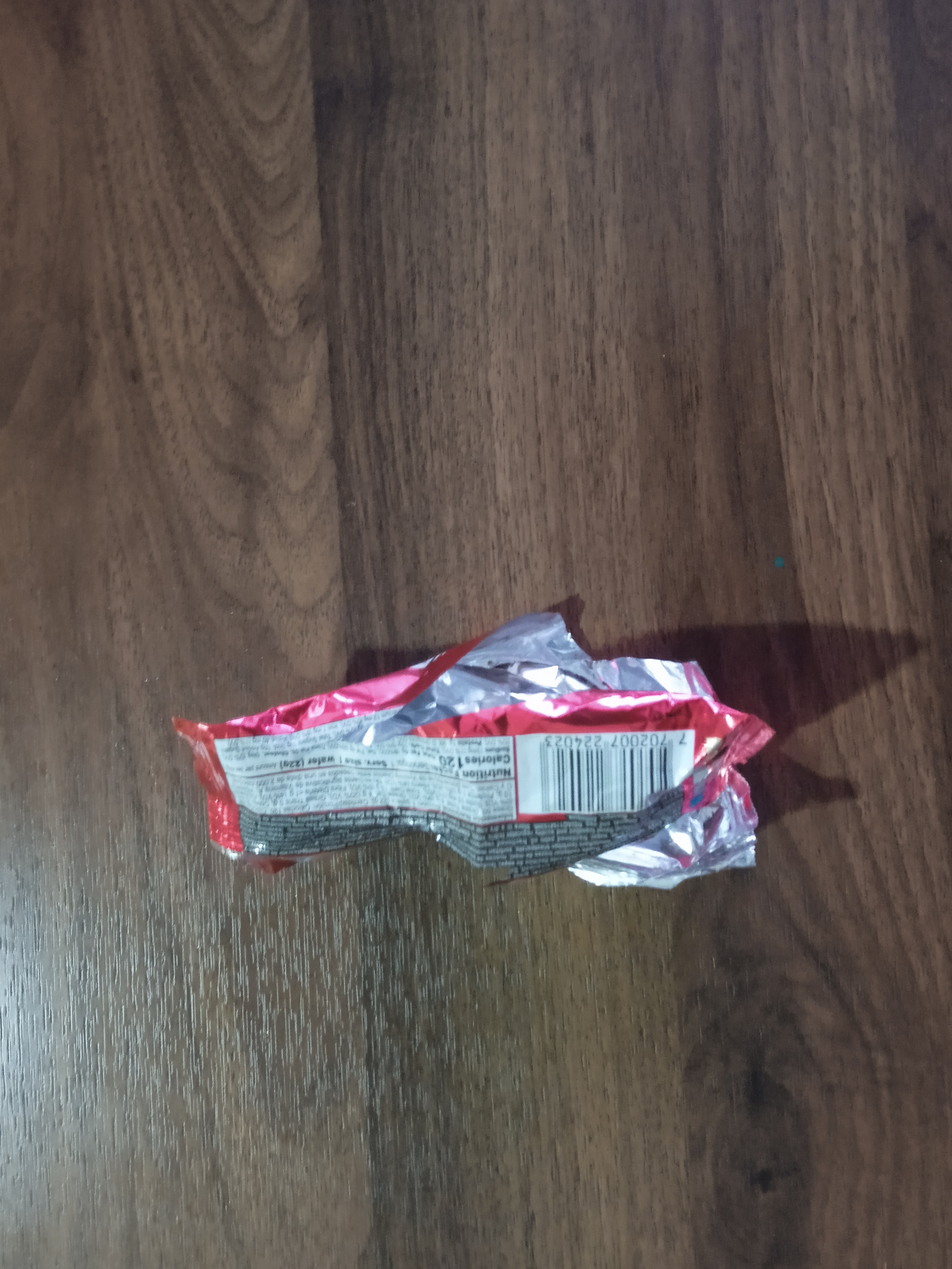plastic: (163, 556, 788, 943)
